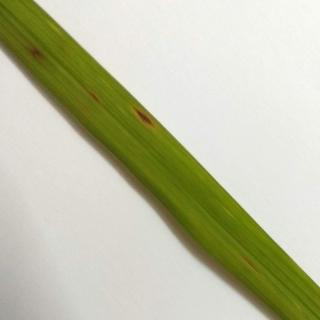bercak-Cokelat: (18, 39, 56, 74), (134, 100, 160, 134), (77, 88, 106, 112)
